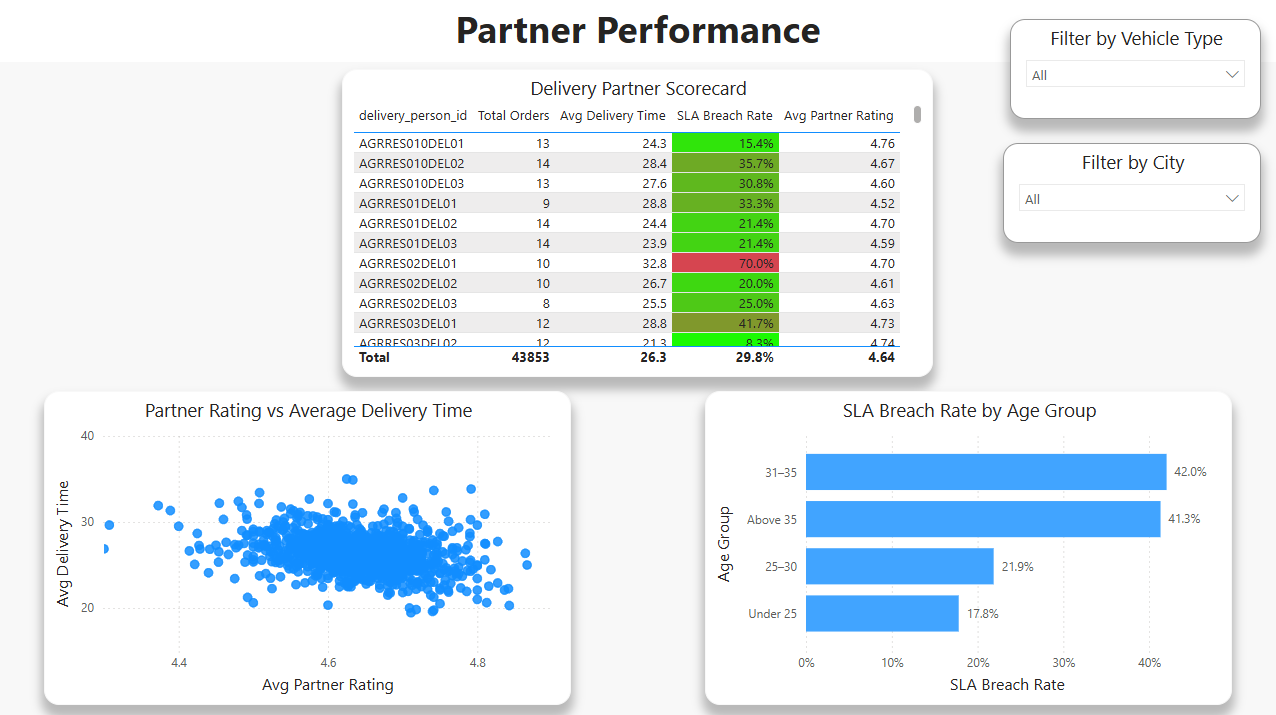

This screenshot's page, from the dashboard's own definition file:
{"tool":"powerbi","page":{"name":"Partner Performance","canvas":[1280,720],"ordinal":2},"visuals":[{"type":"textbox","box":[0,0,1280,64],"z":0},{"type":"tableEx","title":"Delivery Partner Scorecard","fields":{"Values":["orders_clean.delivery_person_id","orders_clean.Total Orders","orders_clean.Avg Delivery Time","orders_clean.SLA Breach Rate","orders_clean.Avg Partner Rating"]},"box":[344,71,591,308],"z":1000},{"type":"clusteredBarChart","title":"SLA Breach Rate by Age Group","fields":{"Category":["orders_clean.age_group"],"Y":["orders_clean.SLA Breach Rate"]},"box":[707,393,527,314],"z":2000},{"type":"scatterChart","title":"Partner Rating vs Average Delivery Time","fields":{"X":["orders_clean.Avg Partner Rating"],"Y":["orders_clean.Avg Delivery Time"],"Category":["orders_clean.delivery_person_id"]},"box":[46,393,527,314],"z":3000},{"type":"slicer","title":"Filter by City","fields":{"Values":["orders_clean.city"]},"box":[1005,145,258,100],"z":4000},{"type":"slicer","title":"Filter by Vehicle Type","fields":{"Values":["orders_clean.vehicle_type"]},"box":[1012,21,251,100],"z":5000}]}

Visuals, with their boxes in screenshot pixels (x1, y1, x2, y2), scaled from the page's 1280x720 canvas onto the 1276x715 screenshot:
textbox: box=[0, 0, 1275, 64]
"Delivery Partner Scorecard" tableEx: box=[343, 71, 932, 376]
"SLA Breach Rate by Age Group" clusteredBarChart: box=[705, 390, 1230, 702]
"Partner Rating vs Average Delivery Time" scatterChart: box=[46, 390, 571, 702]
"Filter by City" slicer: box=[1002, 144, 1259, 243]
"Filter by Vehicle Type" slicer: box=[1009, 21, 1259, 120]
